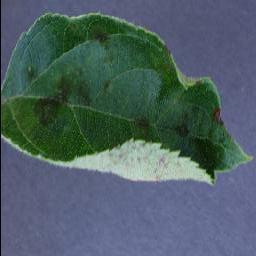apple healthy: (0, 10, 253, 185)
